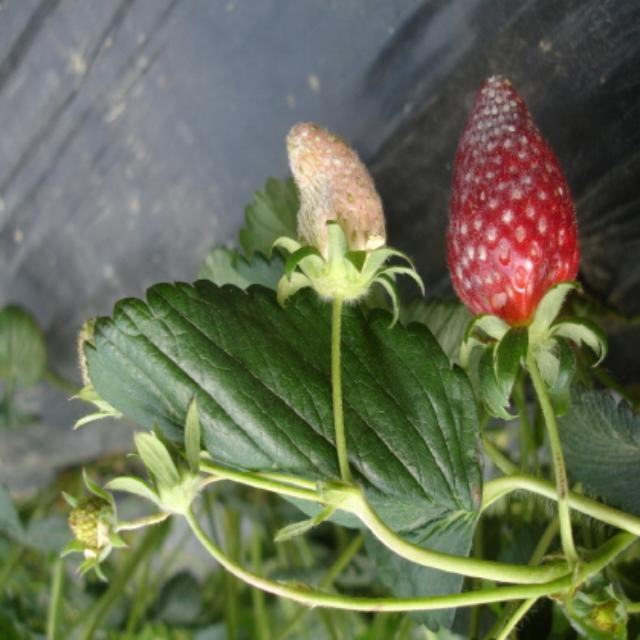Powdery Mildew Fruit: (446, 74, 580, 351), (284, 120, 389, 304)
